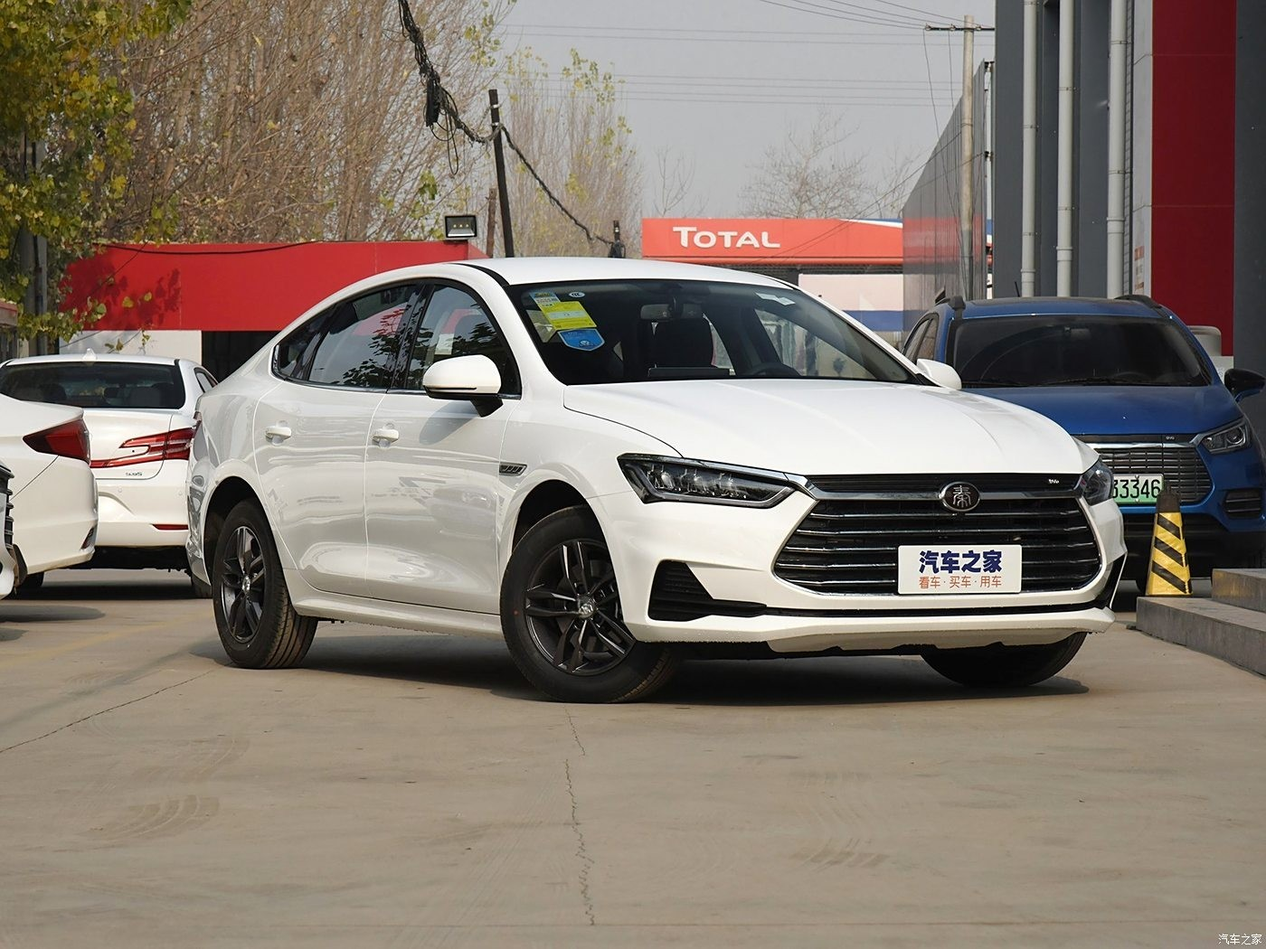BYD Qin: (942, 483, 980, 512)
